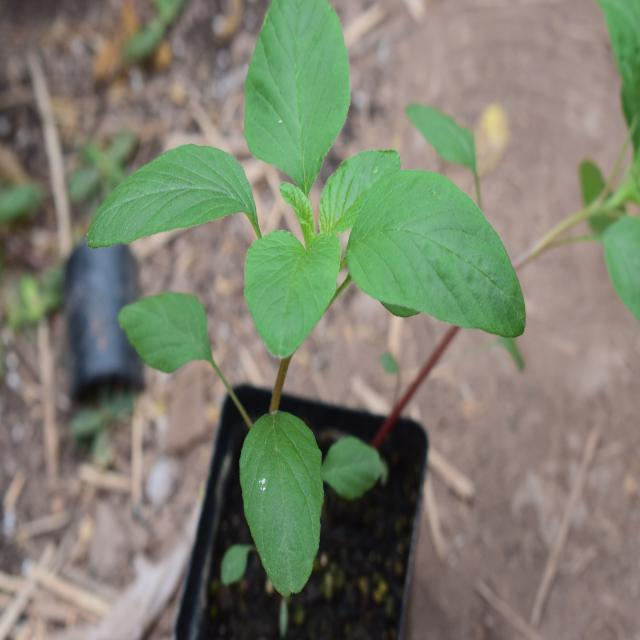pigweed: (84, 6, 522, 524)
